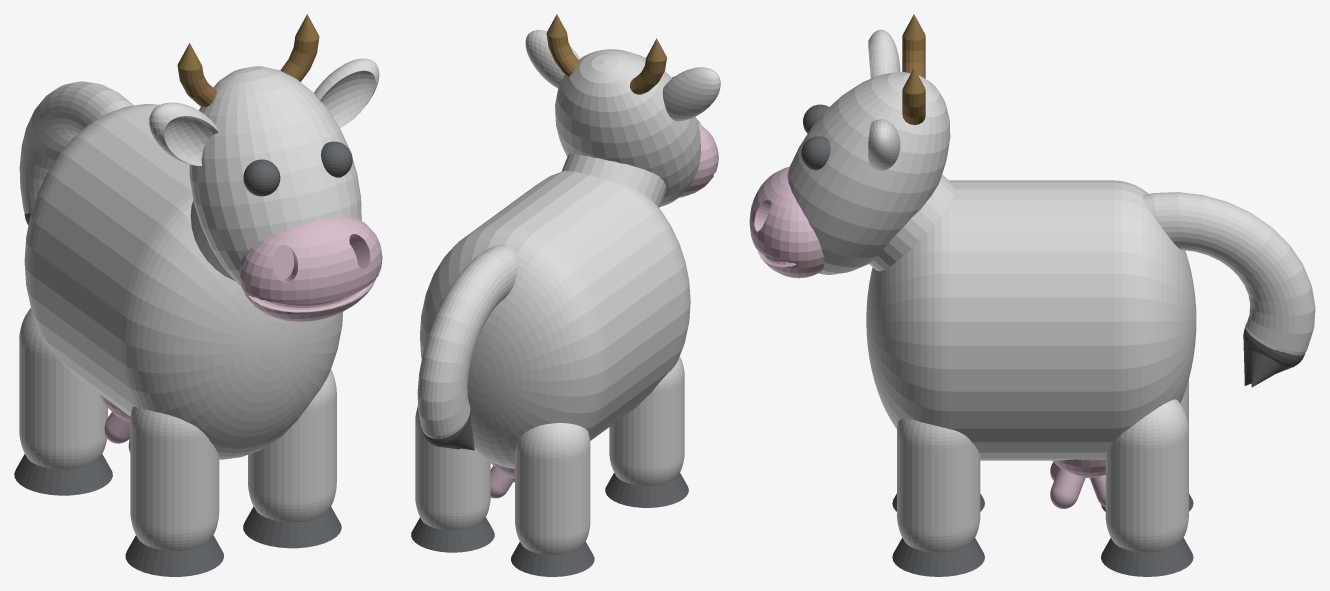
Rendered from cow.glb.
3 renders of one model, left to right at view 1: azimuth 30°, elevation 25°; view 2: azimuth 150°, elevation 25°; view 3: azimuth 270°, elevation 25°, orthographic. The views are drawn at different scales.
Parts seen in each view (by area): view 1: Mesh_Mesh_head_geo.001_lambert2SG.001; view 2: Mesh_Mesh_head_geo.001_lambert2SG.001; view 3: Mesh_Mesh_head_geo.001_lambert2SG.001.
Boxes of the visible parts, bbox=[...] form: Mesh_Mesh_head_geo.001_lambert2SG.001: bbox=[14, 14, 382, 576]; Mesh_Mesh_head_geo.001_lambert2SG.001: bbox=[411, 14, 720, 576]; Mesh_Mesh_head_geo.001_lambert2SG.001: bbox=[749, 14, 1315, 576].
Bounding box in the file's own units: 21.25 × 46.7 × 48.86.
